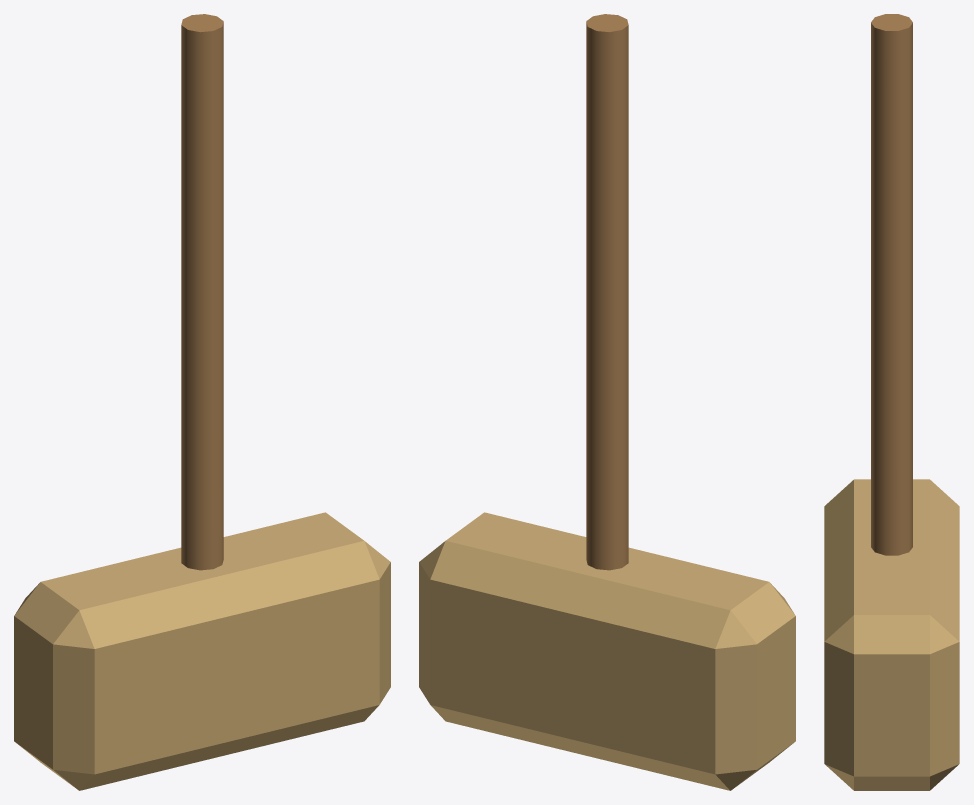
The model's file is broom.glb.
3 views of the same model, side by side, from view 1: azimuth 30°, elevation 25°; view 2: azimuth 150°, elevation 25°; view 3: azimuth 270°, elevation 25° (orthographic). The views are drawn at different scales.
Visible parts, largest first — view 1: broom; view 2: broom; view 3: broom.
Boxes of the visible parts, x1=… form: broom: x1=14, y1=14, x2=390, y2=790; broom: x1=419, y1=14, x2=795, y2=790; broom: x1=824, y1=14, x2=959, y2=790.
Bounding box in the file's own units: 0.2025 × 0.4117 × 0.072.
